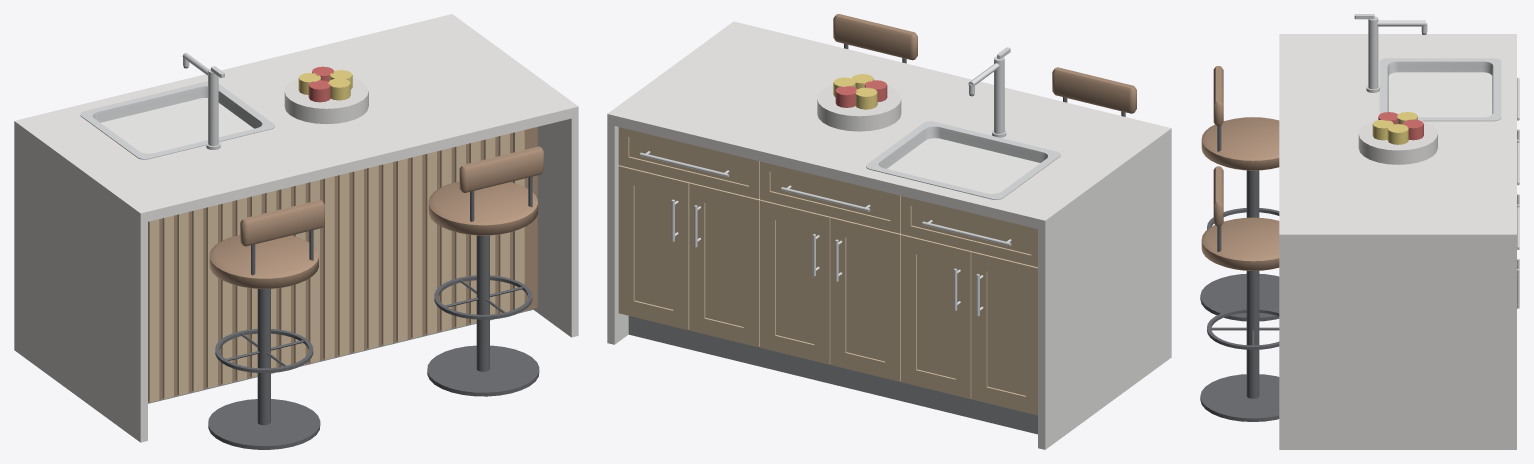
3 views of the same model, side by side, from view 1: azimuth 30°, elevation 25°; view 2: azimuth 150°, elevation 25°; view 3: azimuth 270°, elevation 25° (orthographic). The views are drawn at different scales.
Visible parts, largest first — view 1: Đảo bếp Dài=1800; Rộng=900; view 2: Đảo bếp Dài=1800; Rộng=900; view 3: Đảo bếp Dài=1800; Rộng=900.
Part boxes in pixels (x1,y1,x2,y2): Đảo bếp Dài=1800; Rộng=900: (14, 14, 578, 449); Đảo bếp Dài=1800; Rộng=900: (607, 14, 1171, 449); Đảo bếp Dài=1800; Rộng=900: (1200, 14, 1519, 449).
Bounding box in the file's own units: 1.8 × 1.21 × 1.21.
